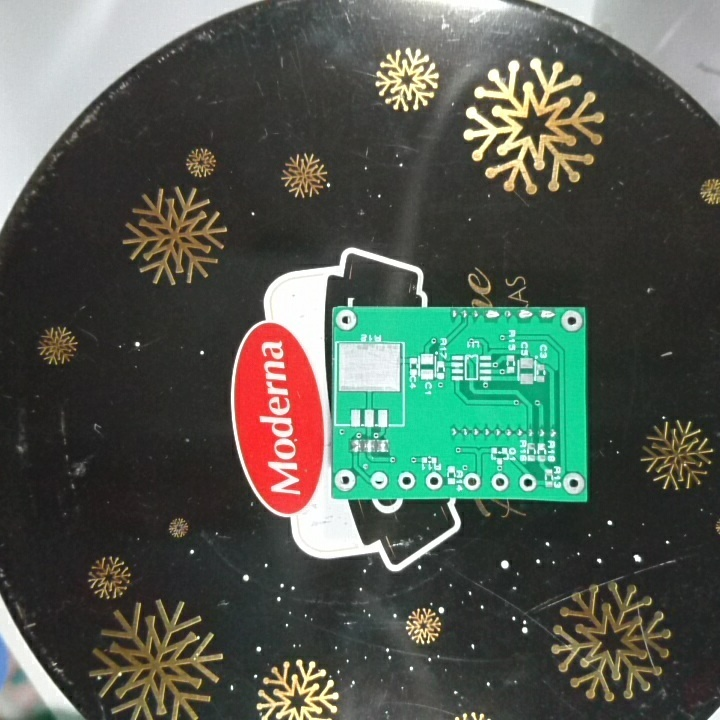F: (559, 308, 585, 335), (334, 307, 359, 334), (560, 471, 585, 497), (333, 468, 357, 494), (394, 468, 417, 492), (488, 470, 511, 493), (423, 469, 444, 493), (460, 471, 482, 493), (368, 469, 389, 492), (516, 472, 539, 493)
P: (536, 307, 557, 322), (482, 308, 502, 323), (516, 307, 535, 320)
